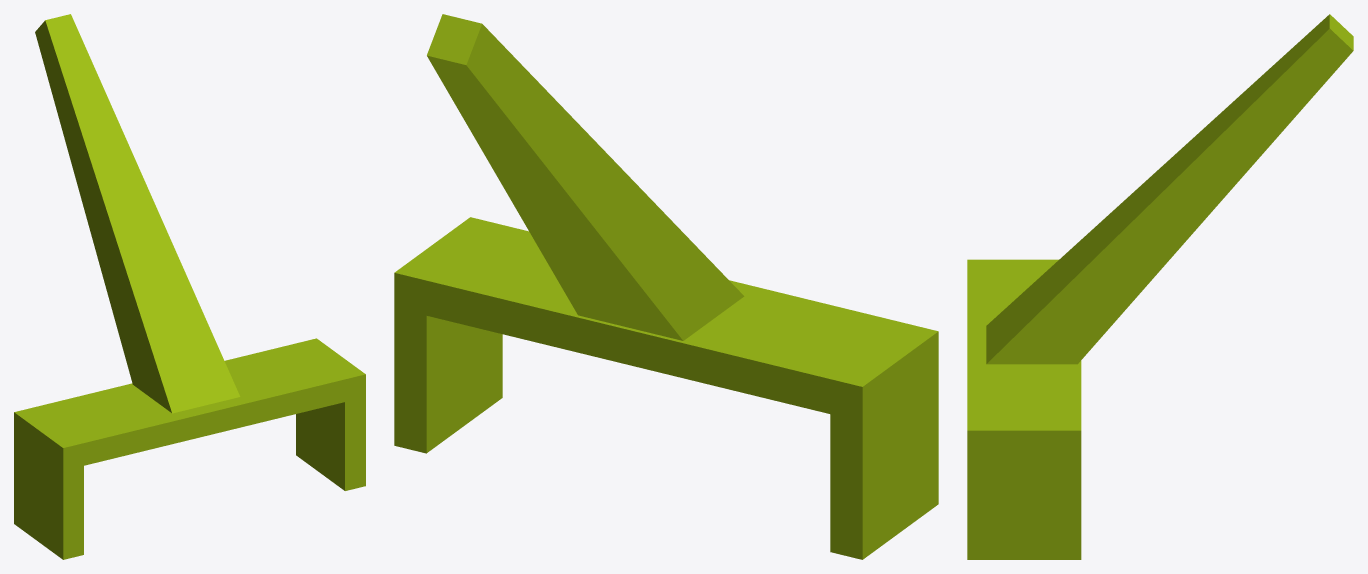
File: horn.obj
3 views of the same model, side by side, from view 1: azimuth 30°, elevation 25°; view 2: azimuth 150°, elevation 25°; view 3: azimuth 270°, elevation 25° (orthographic). The views are drawn at different scales.
Visible parts, largest first — view 1: Cube; view 2: Cube; view 3: Cube.
Boxes of the visible parts, bbox=[...] form: Cube: bbox=[14, 14, 365, 559]; Cube: bbox=[394, 14, 938, 559]; Cube: bbox=[967, 14, 1353, 559].
Size of the model in its own units: 0.1607 by 0.1986 by 0.1533.
